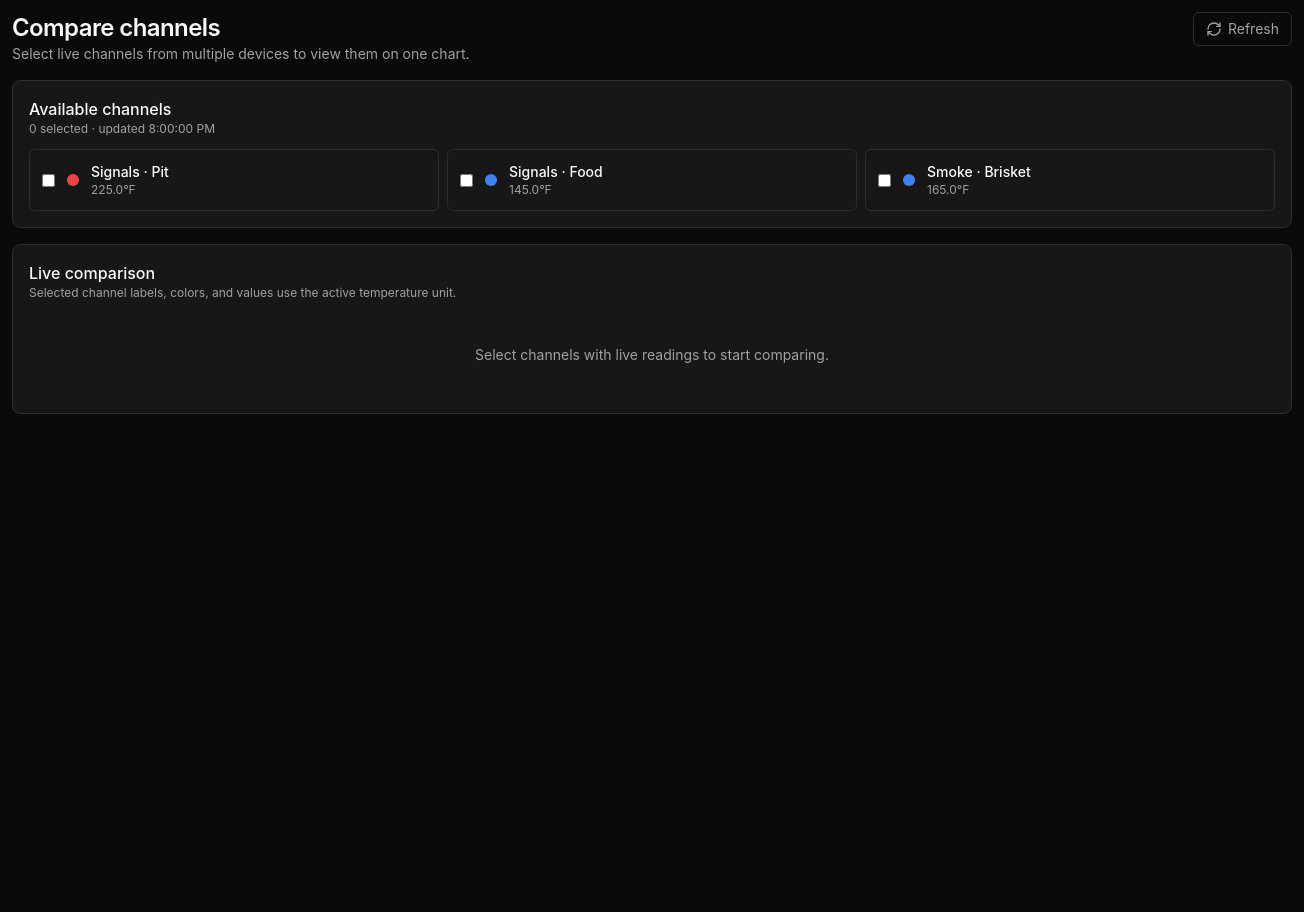
Test: Compare page › selects and deselects channels from at least two devices
The width and height of the screenshot is (1304, 912).
Click the checkbox named "Select Signals · Pit". click: click(48, 180)
box: [42, 174, 55, 186]
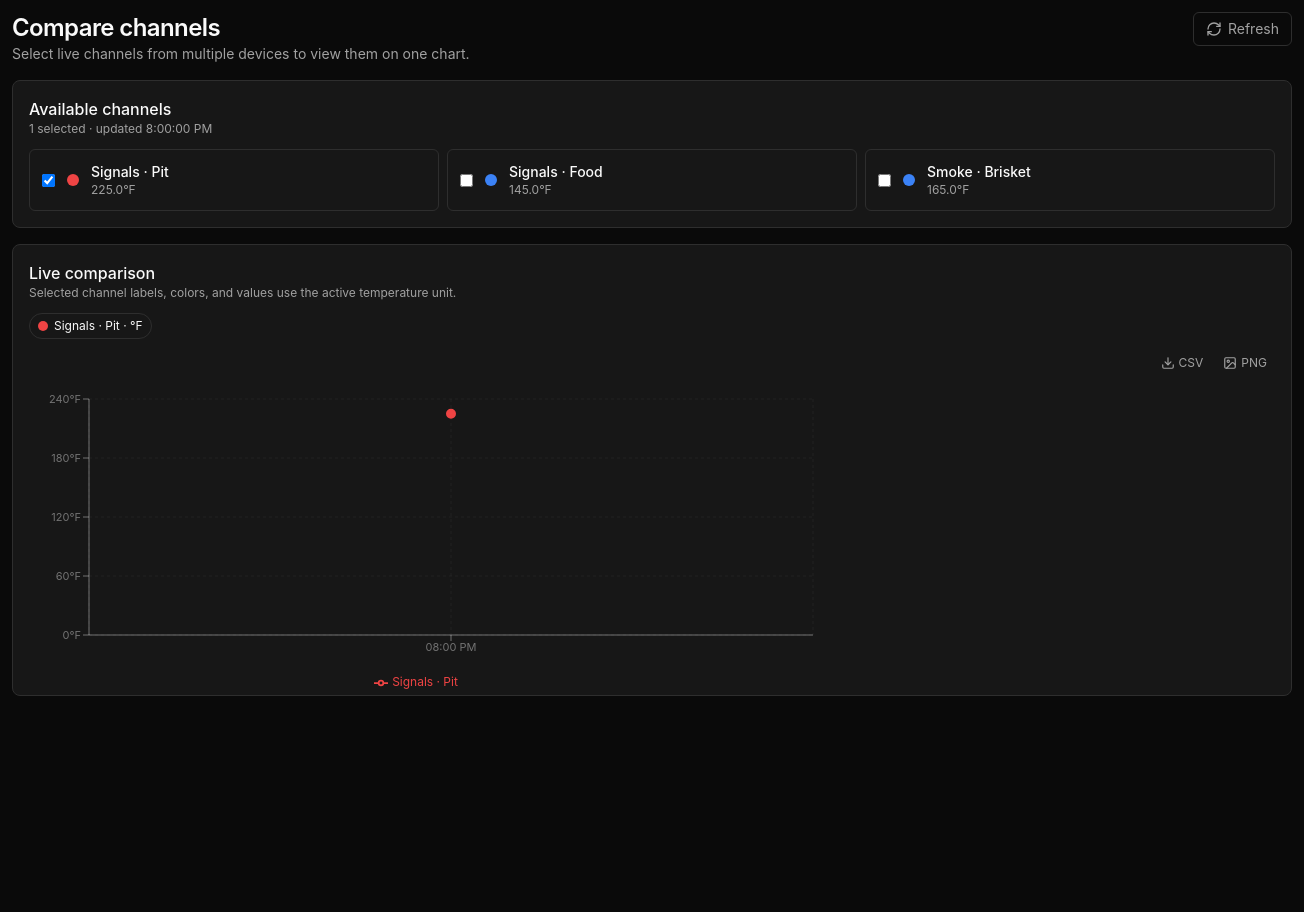
Click the checkbox named "Select Smoke · Brisket". click: click(884, 180)
box: [878, 174, 891, 186]
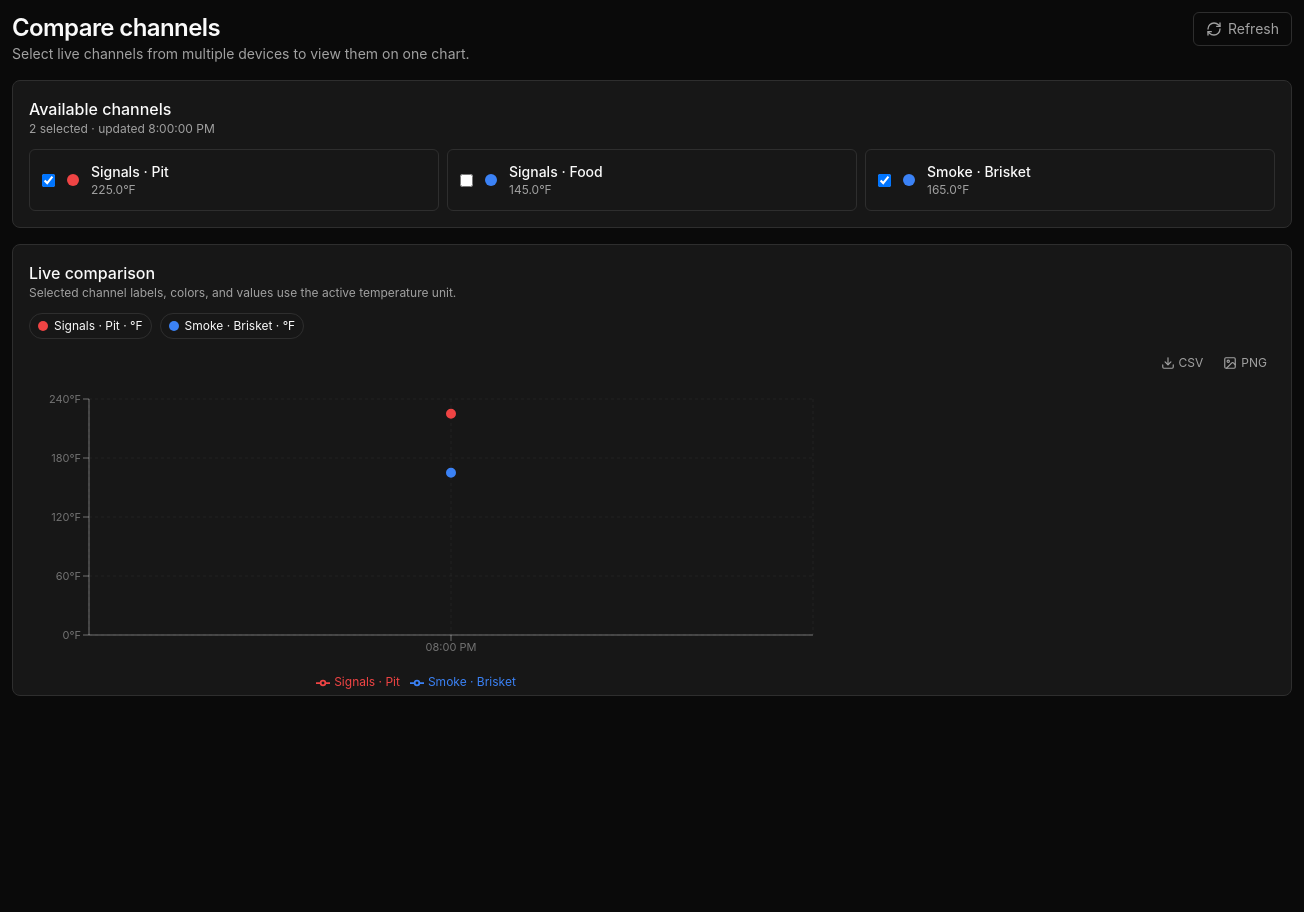
Expected: the checkbox named "Select Signals · Pit" is checked
Expected: the checkbox named "Select Smoke · Brisket" is checked, [878, 174, 891, 186]
Expected: the list item "Signals · Pit · °F" is shown, [29, 313, 152, 339]
Click the checkbox named "Select Signals · Pit". click: click(48, 180)
box: [42, 174, 55, 186]
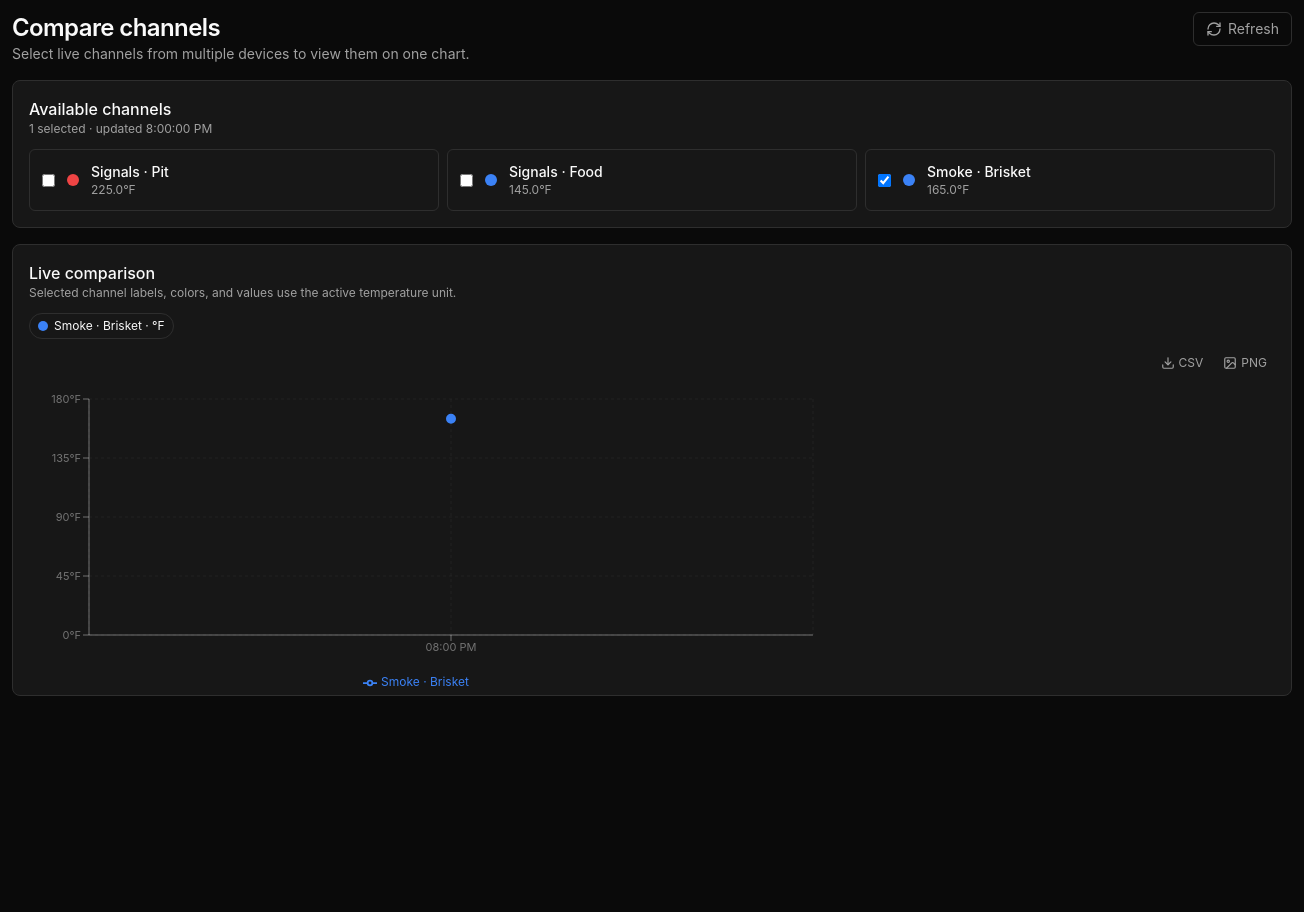
Expected: the checkbox named "Select Signals · Pit" is not checked, [42, 174, 55, 186]
Expected: the list item "Signals · Pit · °F" is gone
Expected: the list item "Smoke · Brisket · °F" is shown, [29, 313, 174, 339]
